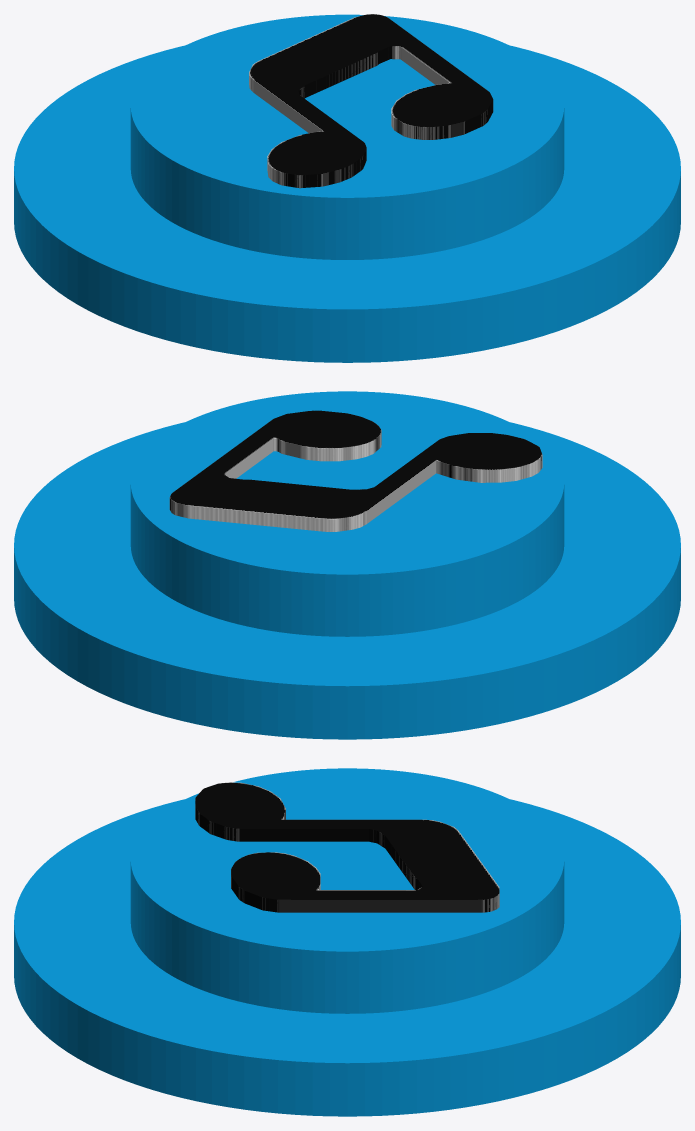
The model's file is bouton-musique.gltf.
The picture shows the model from 3 angles, top to bottom: view 1: azimuth 30°, elevation 25°; view 2: azimuth 150°, elevation 25°; view 3: azimuth 270°, elevation 25°; orthographic projection.
Bounding box in the file's own units: 0.04 × 0.00971 × 0.04.
Materials: 2 (1 with a texture image).
